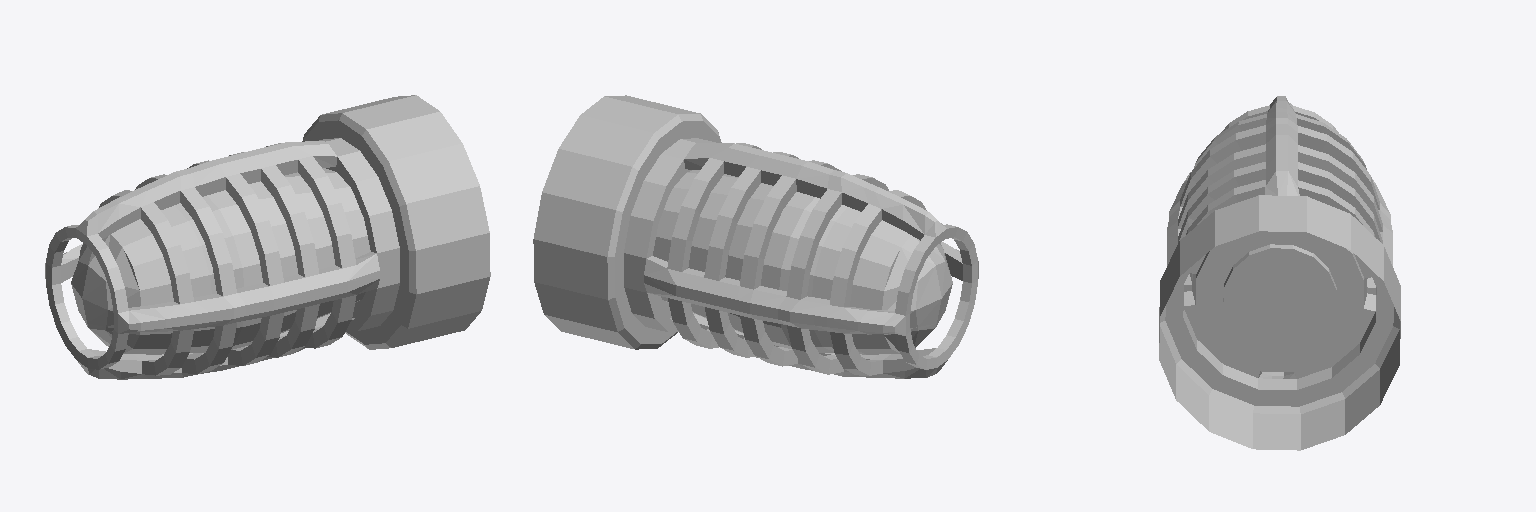
File: Wall Lamp Small.obj
3 renders of one model, left to right at view 1: azimuth 30°, elevation 25°; view 2: azimuth 150°, elevation 25°; view 3: azimuth 270°, elevation 25°, orthographic.
Visible parts, largest first — view 1: Lamp:Light_FixtureLamp Lamp1, Lamp1 Lamp:LampLight_Bulb; view 2: Lamp:Light_FixtureLamp Lamp1, Lamp1 Lamp:LampLight_Bulb; view 3: Lamp:Light_FixtureLamp Lamp1.
Boxes of the visible parts, <box> form: Lamp:Light_FixtureLamp Lamp1: <box>45,95,490,379</box>; Lamp1 Lamp:LampLight_Bulb: <box>71,168,370,354</box>; Lamp:Light_FixtureLamp Lamp1: <box>533,95,978,378</box>; Lamp1 Lamp:LampLight_Bulb: <box>653,170,952,354</box>; Lamp:Light_FixtureLamp Lamp1: <box>1159,96,1400,450</box>.
Bounding box in the file's own units: 0.6659 × 0.4008 × 0.4008.